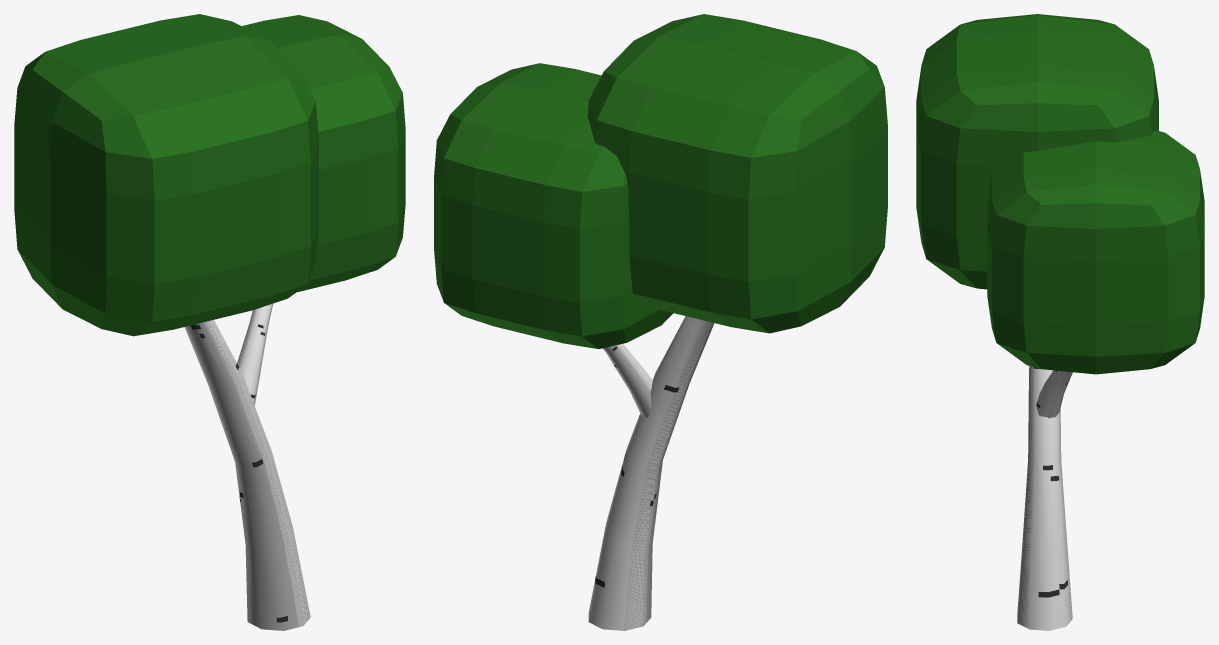
The model's file is Abedul Mediano.fbx.
The picture shows the model from 3 angles, left to right: view 1: azimuth 30°, elevation 25°; view 2: azimuth 150°, elevation 25°; view 3: azimuth 270°, elevation 25°; orthographic projection. The views are drawn at different scales.
Visible parts, largest first — view 1: Abedul Mediano; view 2: Abedul Mediano; view 3: Abedul Mediano.
Boxes of the visible parts, x1=… form: Abedul Mediano: x1=14, y1=14, x2=405, y2=630; Abedul Mediano: x1=434, y1=14, x2=887, y2=630; Abedul Mediano: x1=916, y1=14, x2=1204, y2=630.
Bounding box in the file's own units: 1013 × 809 × 1617.
2 materials, 1 textured.
